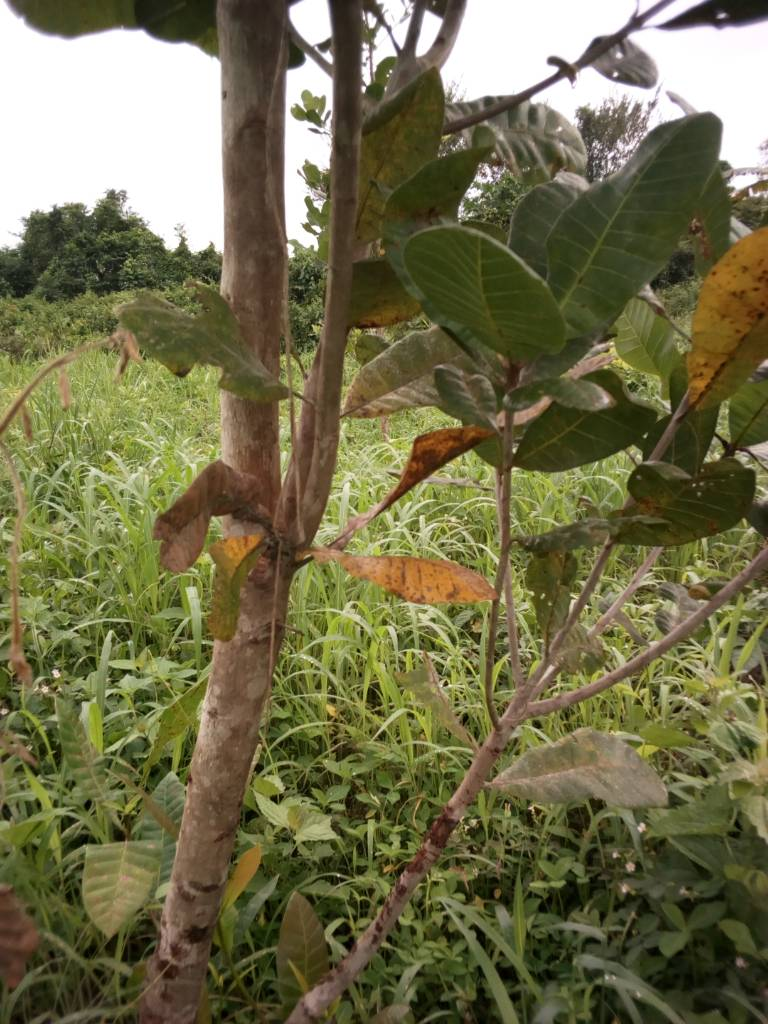Anthracnose: (121, 278, 300, 402), (341, 50, 449, 242), (685, 225, 768, 411), (341, 321, 486, 422), (608, 457, 754, 546), (297, 553, 496, 608)
